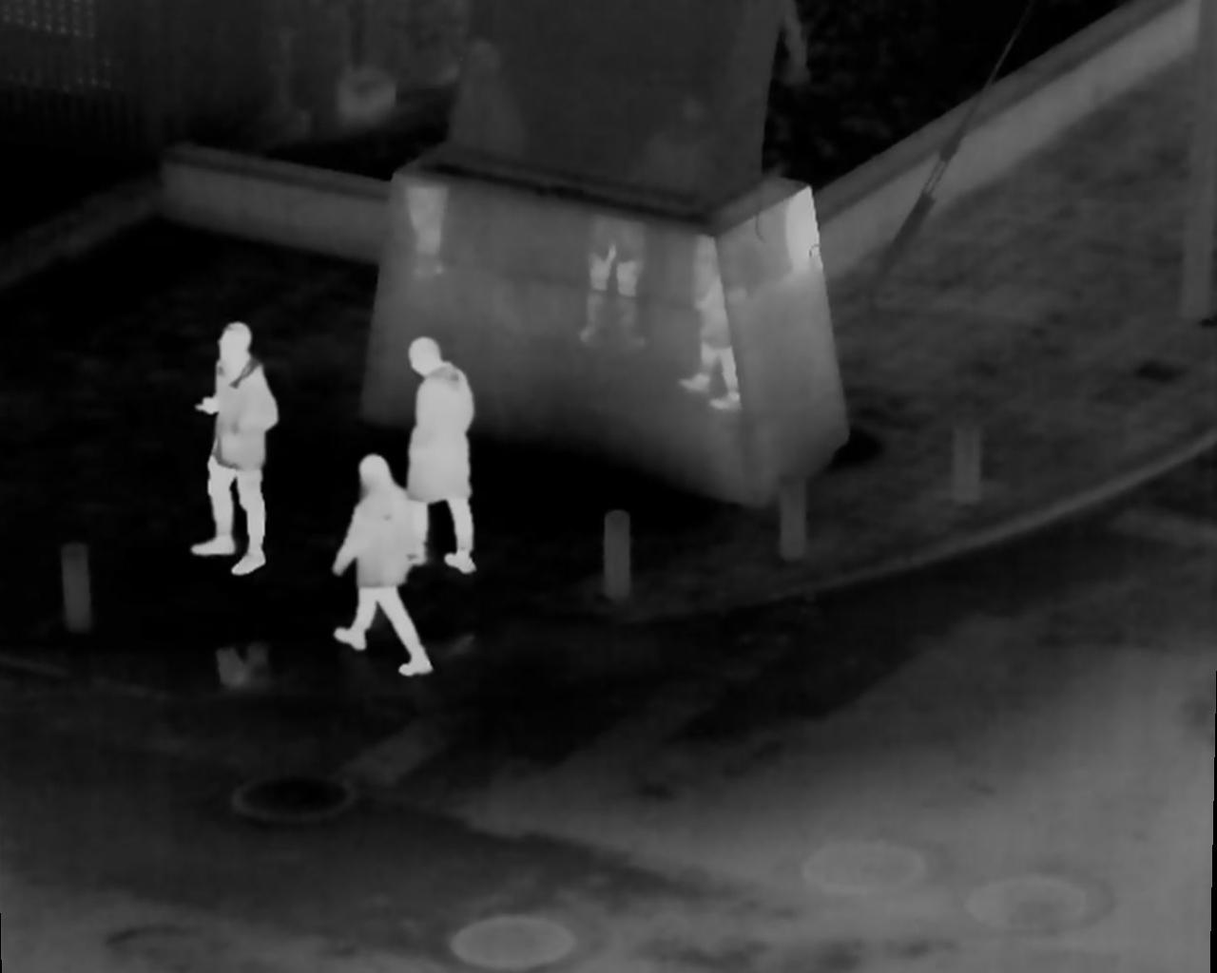person: (192, 324, 286, 575), (408, 336, 488, 575), (338, 455, 424, 677)
